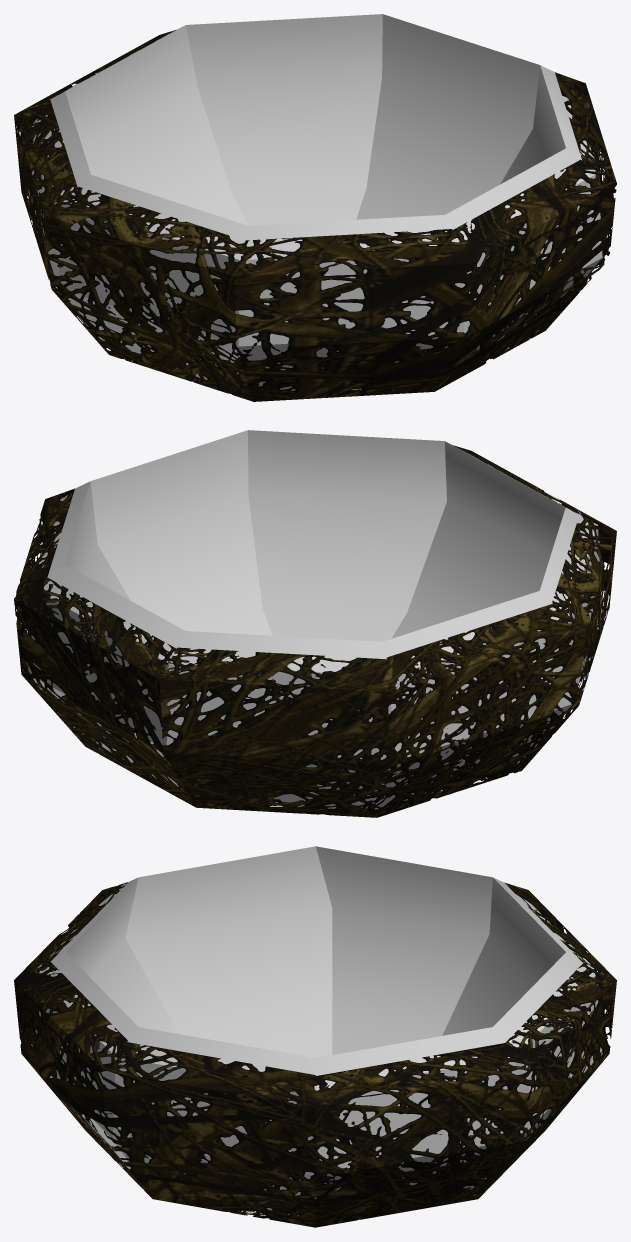
Rendered from ENV_BirdsNest.fbx.
3 views of the same model, one above another, from view 1: azimuth 30°, elevation 25°; view 2: azimuth 150°, elevation 25°; view 3: azimuth 270°, elevation 25° (orthographic). The views are drawn at different scales.
Visible parts, largest first — view 1: polySurface2, looseSticks; view 2: polySurface2, looseSticks; view 3: polySurface2, looseSticks.
Part boxes in pixels (bbox=[...]): polySurface2: bbox=[28, 14, 602, 390]; looseSticks: bbox=[14, 29, 616, 401]; polySurface2: bbox=[28, 430, 601, 809]; looseSticks: bbox=[14, 445, 616, 817]; polySurface2: bbox=[31, 846, 602, 1215]; looseSticks: bbox=[14, 882, 616, 1227].
Bounding box in the file's own units: 2.05 × 0.8149 × 2.05.
